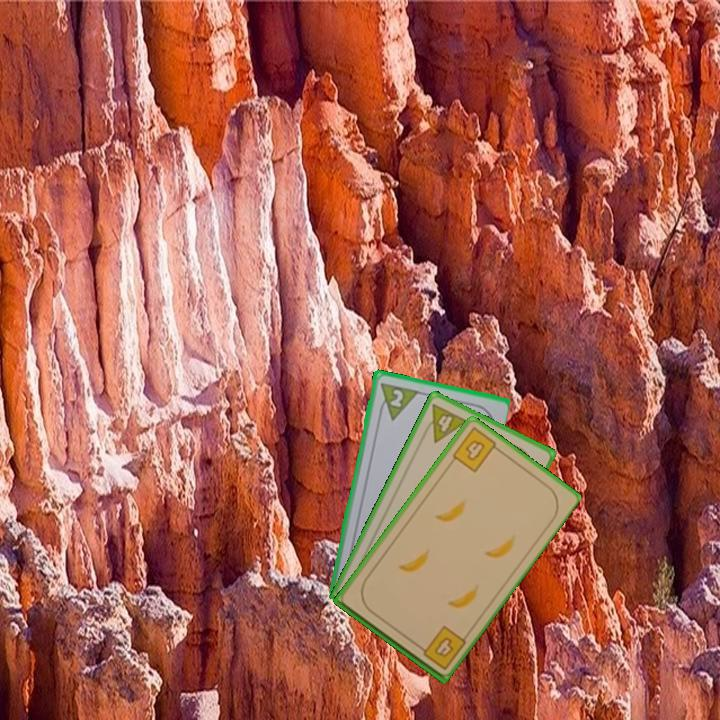2p: (374, 379, 420, 423)
4b: (448, 424, 504, 475), (413, 622, 468, 673)
4p: (418, 400, 471, 445)
